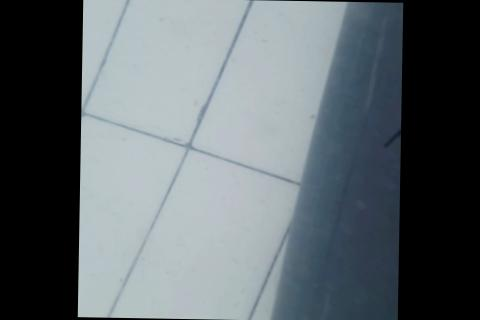keretakan: (381, 114, 401, 147)
